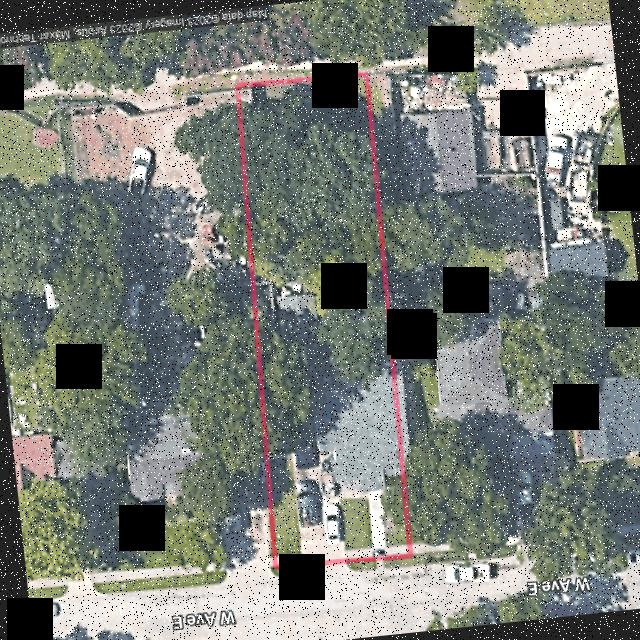Driveway: (288, 453, 342, 558)
Extra Driveway: (295, 562, 354, 576)
Extra Lawn: (269, 567, 301, 578), (346, 559, 375, 570), (383, 559, 409, 567)
Extra Sidewalk: (375, 560, 383, 569)
House: (275, 281, 398, 490)
Sidewalk: (279, 490, 405, 562)
